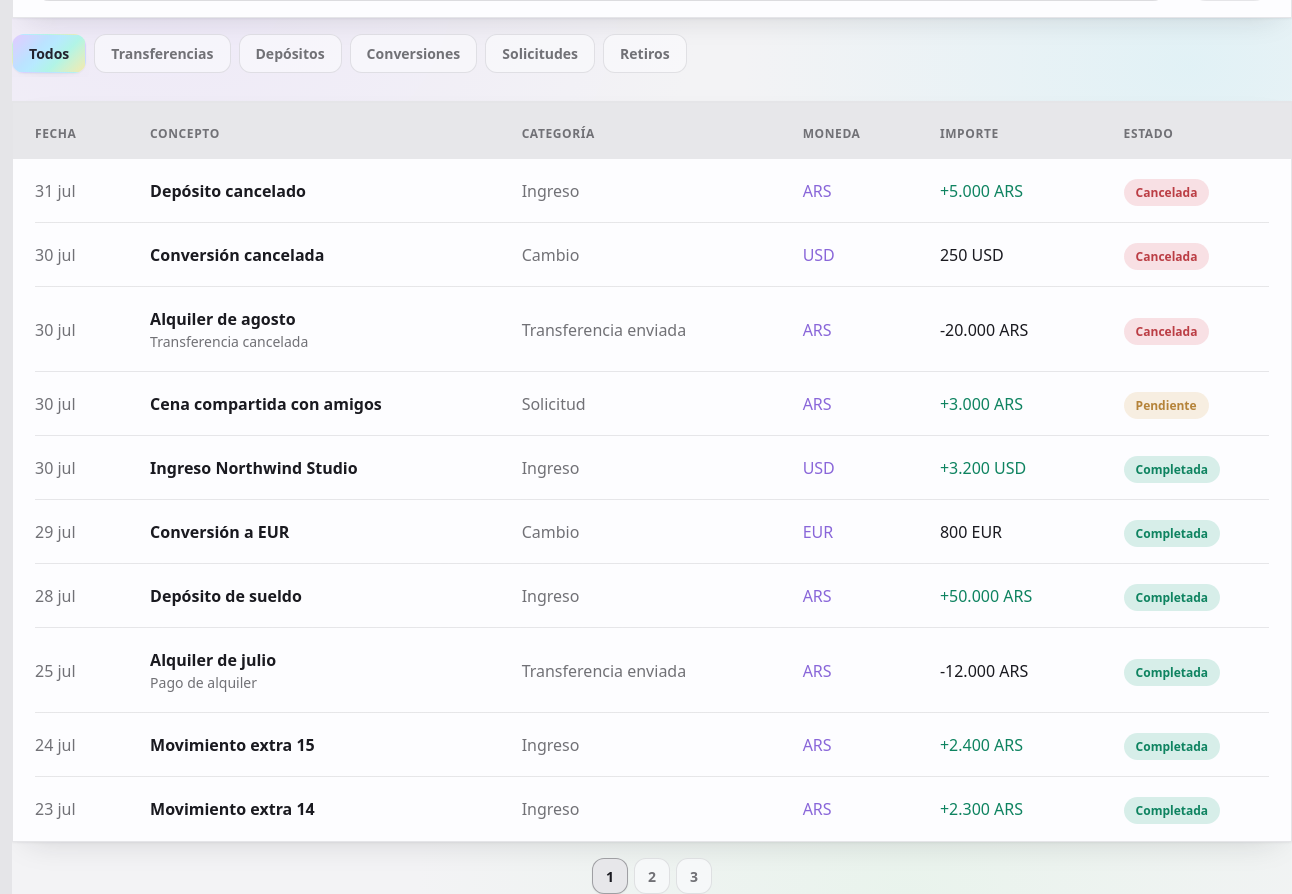
Test: Transactions › pagina de a diez transacciones por página
The image size is (1292, 894).
(page scrolled)
Check: the text "Movimiento extra 15" is shown, box [150,734,315,756]
Check: the text "Depósito de sueldo" is shown, box [150,585,302,607]
Click the button named "Página 2" at (652, 876), box [634,858,670,893]
(page scrolled)
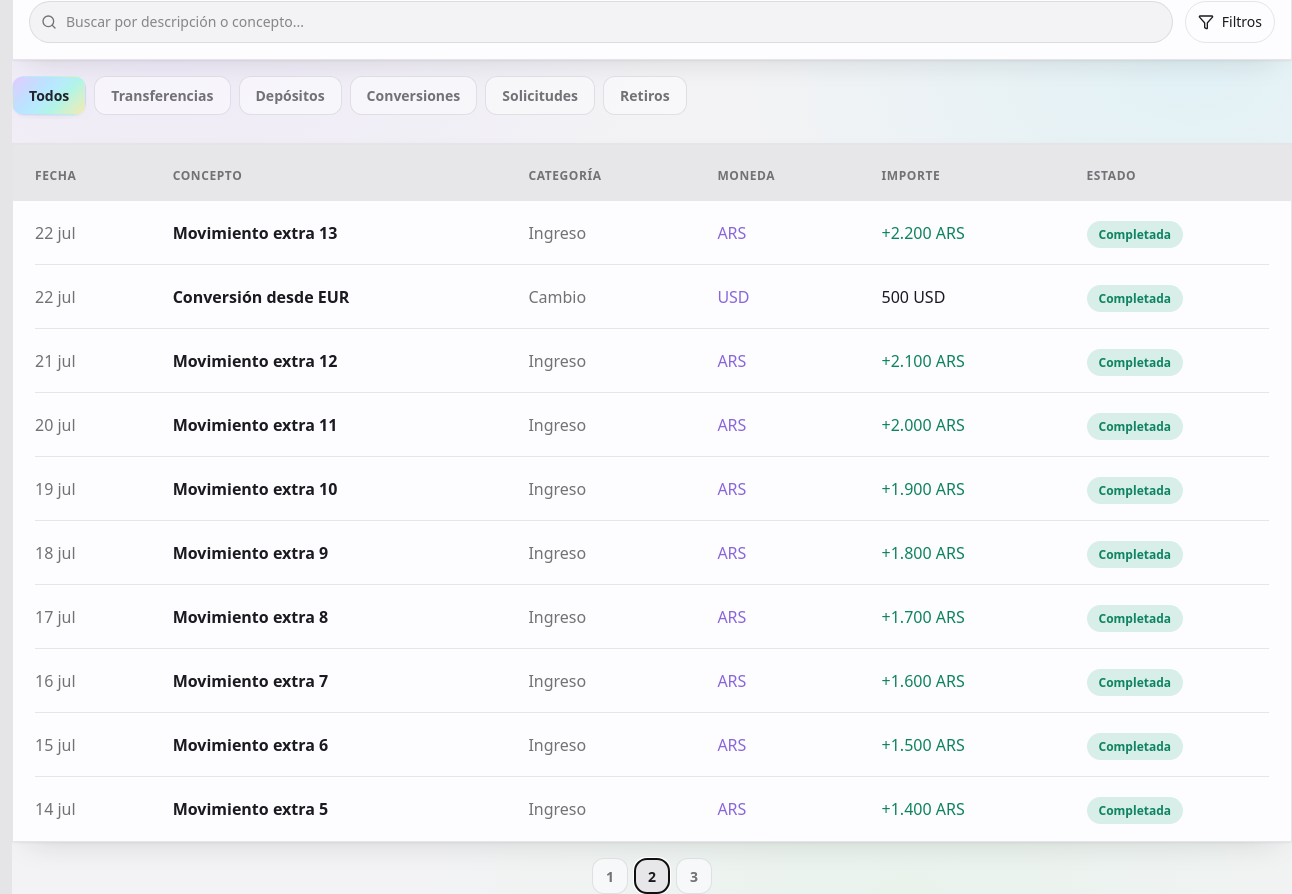
Check: the text "Movimiento extra 11" is shown, box [173,414,337,436]
Check: the text "Depósito de sueldo" is gone
